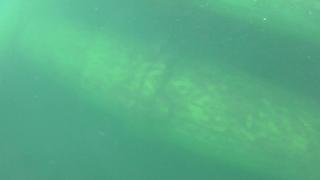pipe: (18, 15, 320, 171), (196, 1, 320, 45)
